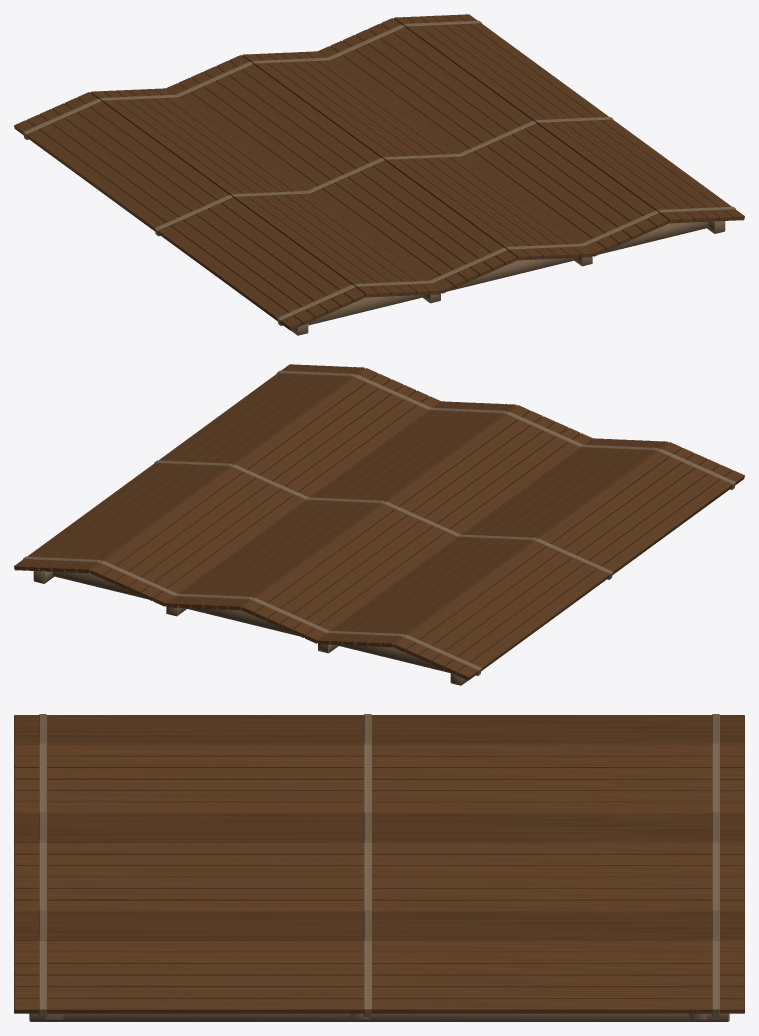
File: retreat_v3_a5_roof.glb
3 renders of one model, top to bottom at view 1: azimuth 30°, elevation 25°; view 2: azimuth 150°, elevation 25°; view 3: azimuth 270°, elevation 25°, orthographic. The views are drawn at different scales.
Visible parts, largest first — view 1: CANON_Wood_Roof_Bay_1, CANON_Wood_Roof_Bay_2, CANON_Wood_Roof_Bay_3, CANON_Exposed_Timber_Frame; view 2: CANON_Wood_Roof_Bay_1, CANON_Wood_Roof_Bay_2, CANON_Wood_Roof_Bay_3, CANON_Exposed_Timber_Frame; view 3: CANON_Wood_Roof_Bay_3, CANON_Wood_Roof_Bay_1, CANON_Wood_Roof_Bay_2, CANON_Exposed_Timber_Frame.
Part boxes in pixels (left/top/right/bottom): CANON_Wood_Roof_Bay_1: left=14, top=88, right=441, bottom=330; CANON_Wood_Roof_Bay_2: left=166, top=51, right=593, bottom=293; CANON_Wood_Roof_Bay_3: left=318, top=14, right=744, bottom=256; CANON_Exposed_Timber_Frame: left=291, top=221, right=725, bottom=335; CANON_Wood_Roof_Bay_1: left=317, top=438, right=744, bottom=680; CANON_Wood_Roof_Bay_2: left=165, top=401, right=592, bottom=643; CANON_Wood_Roof_Bay_3: left=14, top=364, right=440, bottom=606; CANON_Exposed_Timber_Frame: left=33, top=571, right=467, bottom=685; CANON_Wood_Roof_Bay_3: left=14, top=910, right=744, bottom=1016; CANON_Wood_Roof_Bay_1: left=14, top=714, right=744, bottom=813; CANON_Wood_Roof_Bay_2: left=14, top=812, right=744, bottom=911; CANON_Exposed_Timber_Frame: left=29, top=1013, right=729, bottom=1021.
Size of the model in its own units: 13.54 by 0.9118 by 14.18.
Materials: 2 (1 with a texture image).
